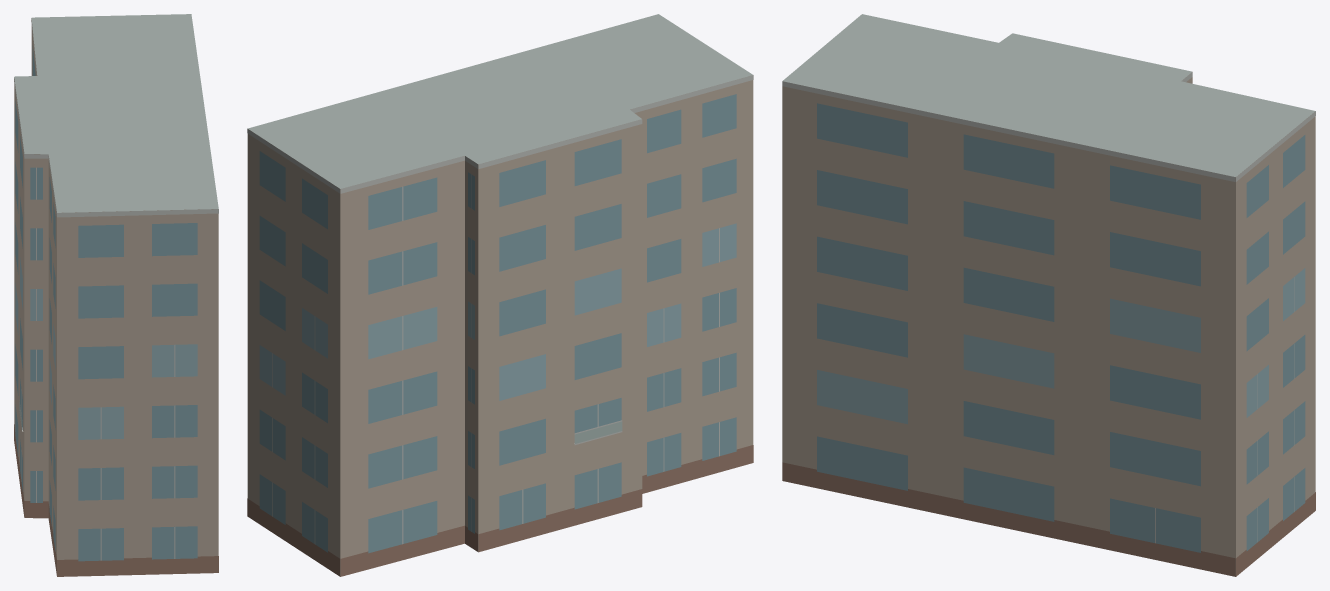
File: survey-upis-33020297.glb
3 renders of one model, left to right at view 1: azimuth 30°, elevation 25°; view 2: azimuth 150°, elevation 25°; view 3: azimuth 270°, elevation 25°, orthographic. The views are drawn at different scales.
Parts seen in each view (by area): view 1: survey-upis-33020297.tmp; view 2: survey-upis-33020297.tmp; view 3: survey-upis-33020297.tmp.
Boxes of the visible parts, x1,y1,x2,y2 form: survey-upis-33020297.tmp: [14, 14, 218, 576]; survey-upis-33020297.tmp: [247, 14, 753, 576]; survey-upis-33020297.tmp: [782, 14, 1315, 576].
Bounding box in the file's own units: 17 × 19.4 × 23.48.
